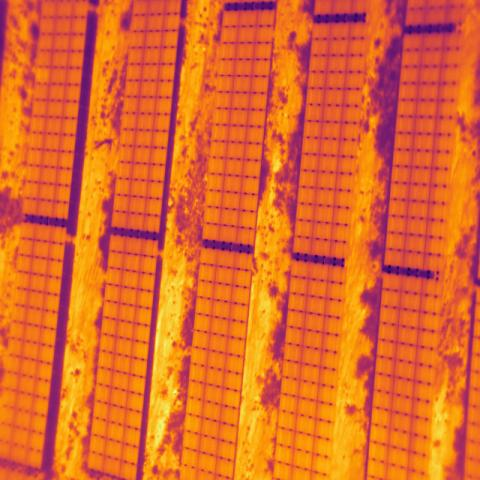fault: (34, 65, 51, 84)
